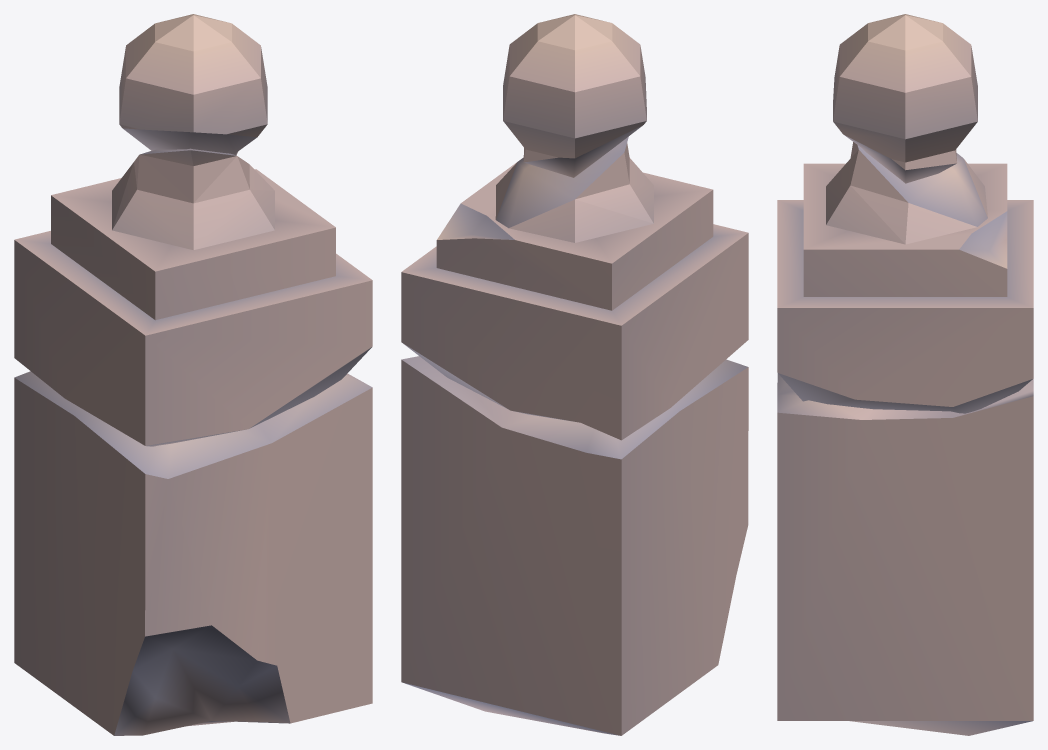
The model's file is GrindPillarFly.gltf.
3 views of the same model, side by side, from view 1: azimuth 30°, elevation 25°; view 2: azimuth 150°, elevation 25°; view 3: azimuth 270°, elevation 25° (orthographic). The views are drawn at different scales.
Visible parts, largest first — view 1: GrindPillarFlyMesh; view 2: GrindPillarFlyMesh; view 3: GrindPillarFlyMesh.
Boxes of the visible parts, bbox=[...] form: GrindPillarFlyMesh: bbox=[14, 14, 372, 735]; GrindPillarFlyMesh: bbox=[401, 14, 748, 735]; GrindPillarFlyMesh: bbox=[777, 14, 1033, 735].
Size of the model in its own units: 1 by 3.02 by 1.
